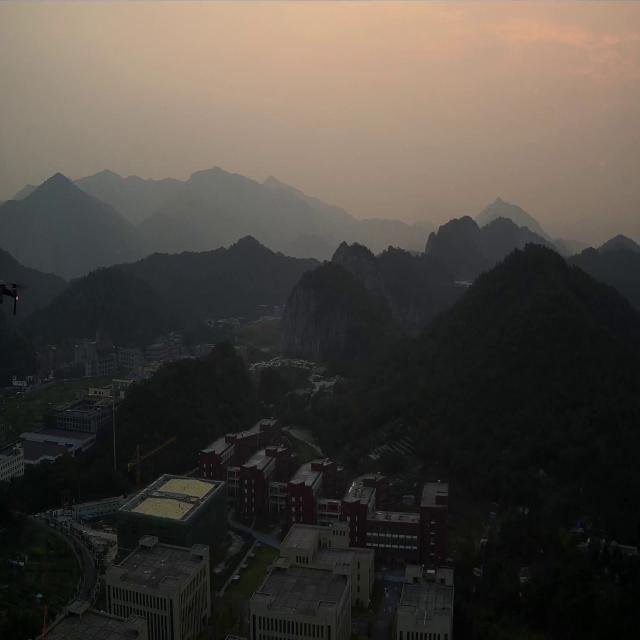UAV: (0, 278, 31, 316)
